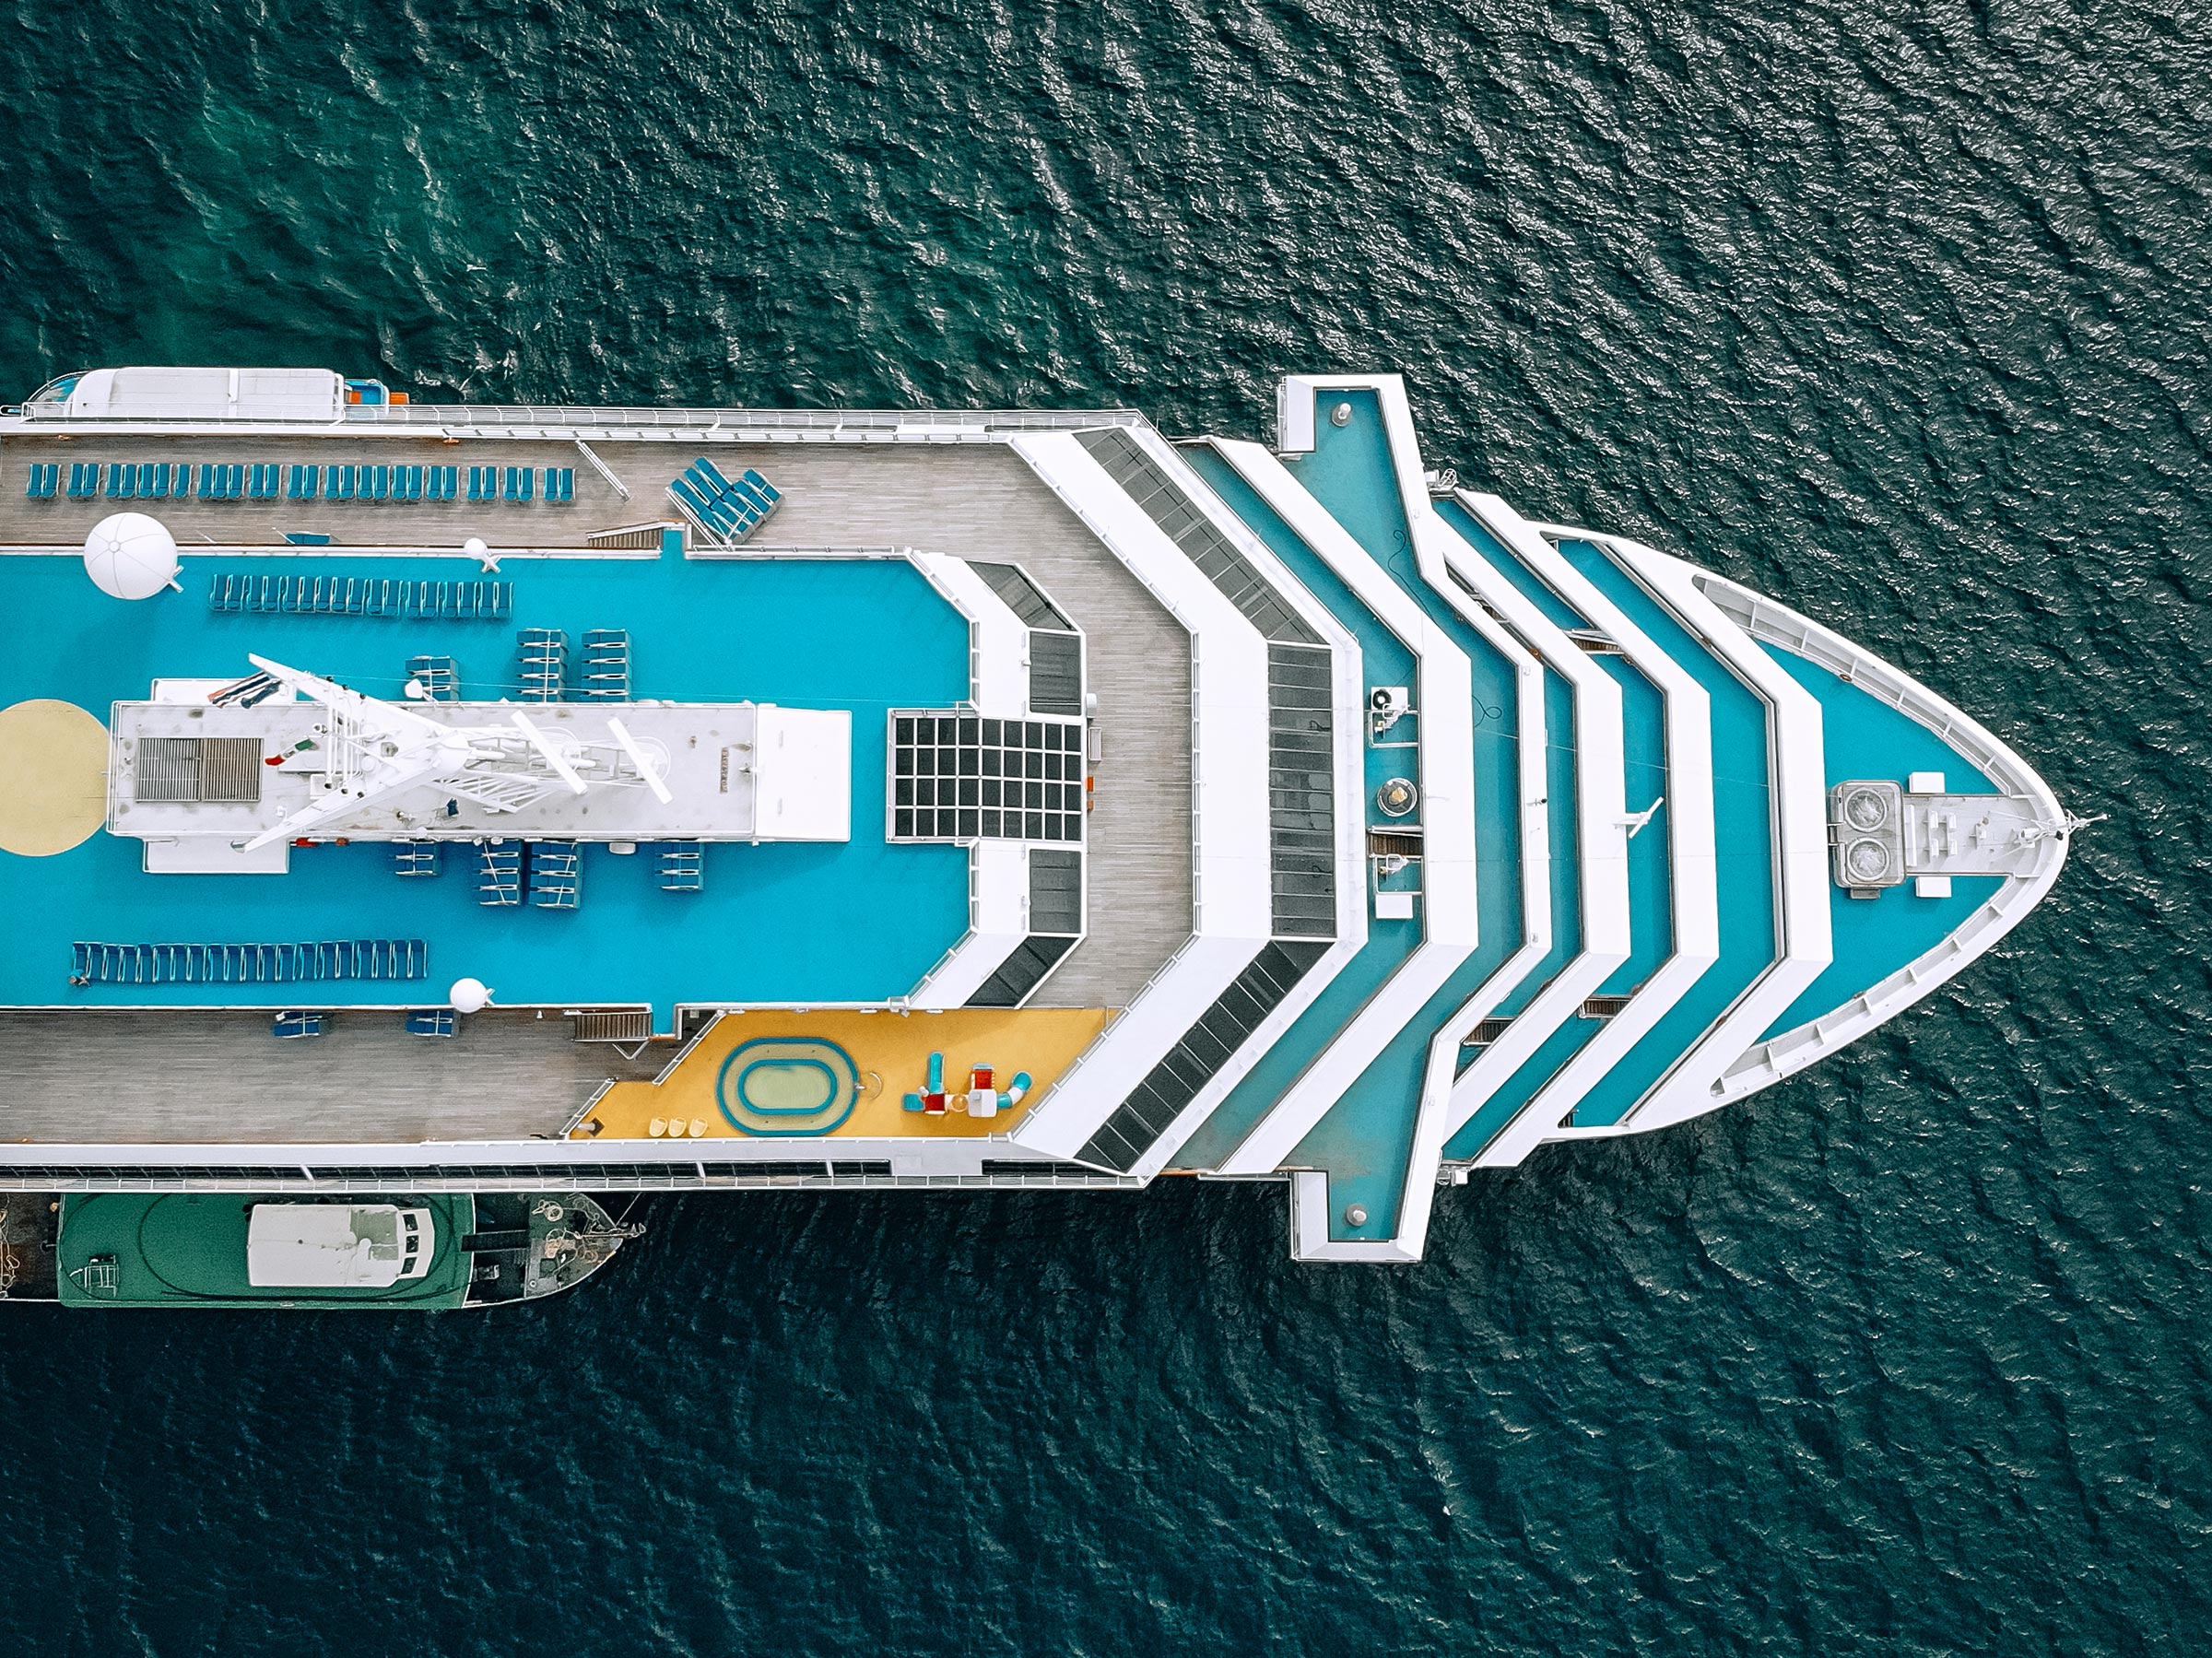ship: (45, 256, 2130, 1564)
